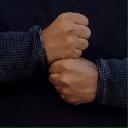hand: (39, 11, 91, 63), (48, 58, 100, 104)
